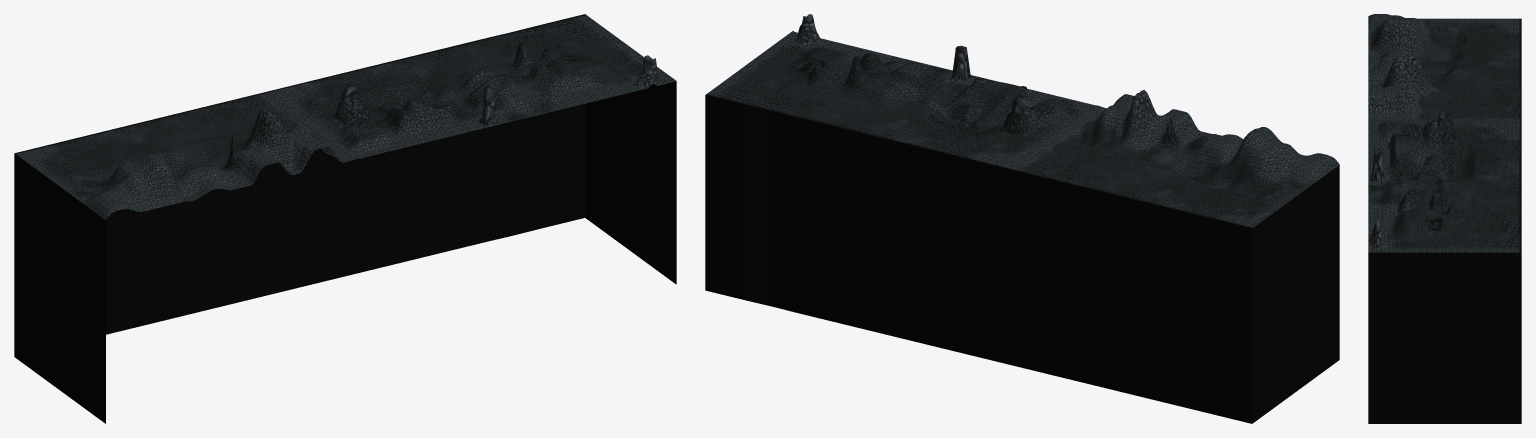
3 views of the same model, side by side, from view 1: azimuth 30°, elevation 25°; view 2: azimuth 150°, elevation 25°; view 3: azimuth 270°, elevation 25° (orthographic). The views are drawn at different scales.
Visible parts, largest first — view 1: ground_base; view 2: ground_base; view 3: ground_base.
Boxes of the visible parts, <box> form: ground_base: <box>14,14,676,423</box>; ground_base: <box>705,14,1339,423</box>; ground_base: <box>1368,14,1521,423</box>.
Bounding box in the file's own units: 5817 × 2457 × 1613.
